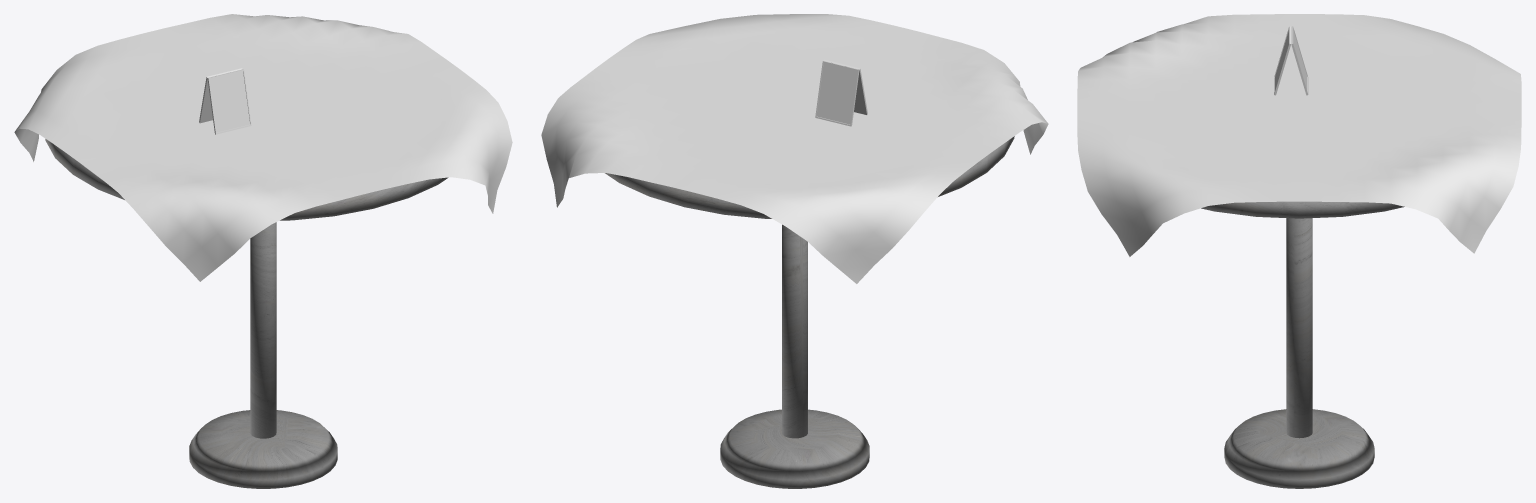
The model's file is Table.fbx.
The picture shows the model from 3 angles, left to right: view 1: azimuth 30°, elevation 25°; view 2: azimuth 150°, elevation 25°; view 3: azimuth 270°, elevation 25°; orthographic projection.
Visible parts, largest first — view 1: Plane, Cylinder.003, Cylinder.002, Cylinder, Cube.001; view 2: Plane, Cylinder.003, Cylinder.002, Cylinder, Cube.002; view 3: Plane, Cylinder.003, Cylinder.002, Cylinder.
Part boxes in pixels (x1,y1,x2,y2): Plane: [14, 14, 512, 281]; Cylinder.003: [189, 410, 337, 488]; Cylinder.002: [250, 222, 276, 438]; Cylinder: [45, 139, 448, 220]; Cube.001: [207, 69, 251, 134]; Plane: [541, 14, 1048, 283]; Cylinder.003: [720, 409, 869, 488]; Cylinder.002: [782, 224, 807, 438]; Cylinder: [605, 136, 1014, 218]; Cube.002: [815, 61, 859, 126]; Plane: [1077, 14, 1521, 256]; Cylinder.003: [1224, 409, 1374, 488]; Cylinder.002: [1286, 218, 1312, 438]; Cylinder: [1201, 201, 1404, 218].
Size of the model in its own units: 200 by 199 by 200.
